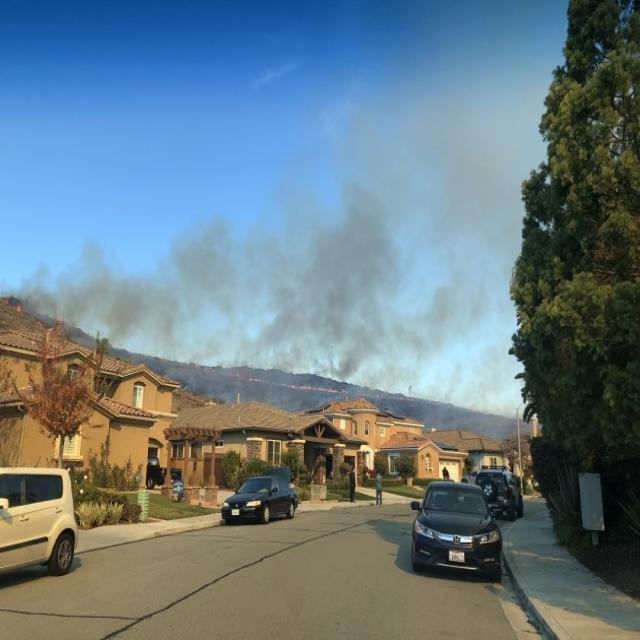Smoke: (41, 132, 507, 371)
